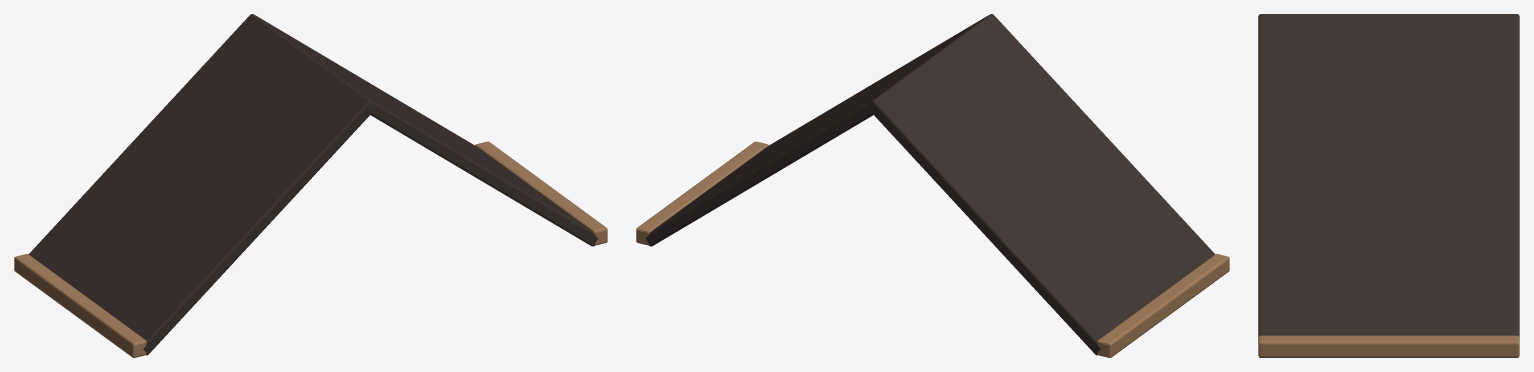
The model's file is roof_gable_4x2m__structure.glb.
3 renders of one model, left to right at view 1: azimuth 30°, elevation 25°; view 2: azimuth 150°, elevation 25°; view 3: azimuth 270°, elevation 25°, orthographic. The views are drawn at different scales.
Parts seen in each view (by area): view 1: roof_gable_4x2m__structure__mesh_00; view 2: roof_gable_4x2m__structure__mesh_00; view 3: roof_gable_4x2m__structure__mesh_00.
Part boxes in pixels (bbox=[...]): roof_gable_4x2m__structure__mesh_00: bbox=[14, 14, 607, 357]; roof_gable_4x2m__structure__mesh_00: bbox=[636, 14, 1229, 357]; roof_gable_4x2m__structure__mesh_00: bbox=[1258, 14, 1519, 357].
Size of the model in its own units: 4.58 by 1.85 by 2.
